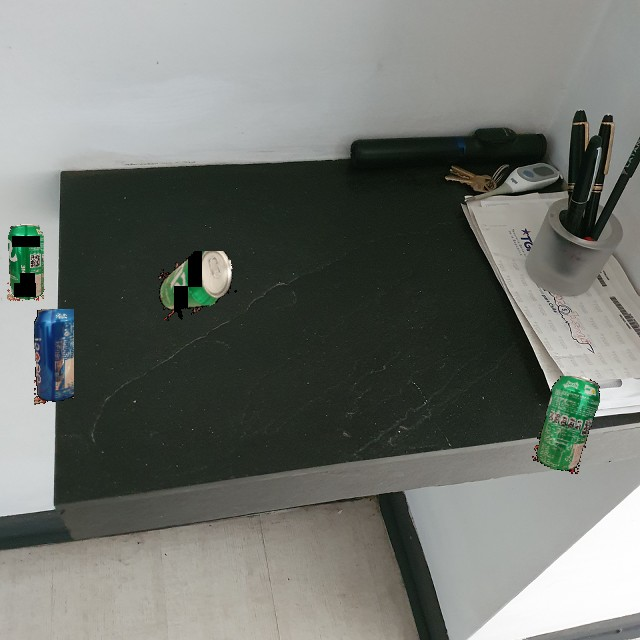pepsi: (34, 309, 74, 405)
sprite: (146, 251, 239, 332), (530, 376, 604, 475), (7, 224, 45, 301)
